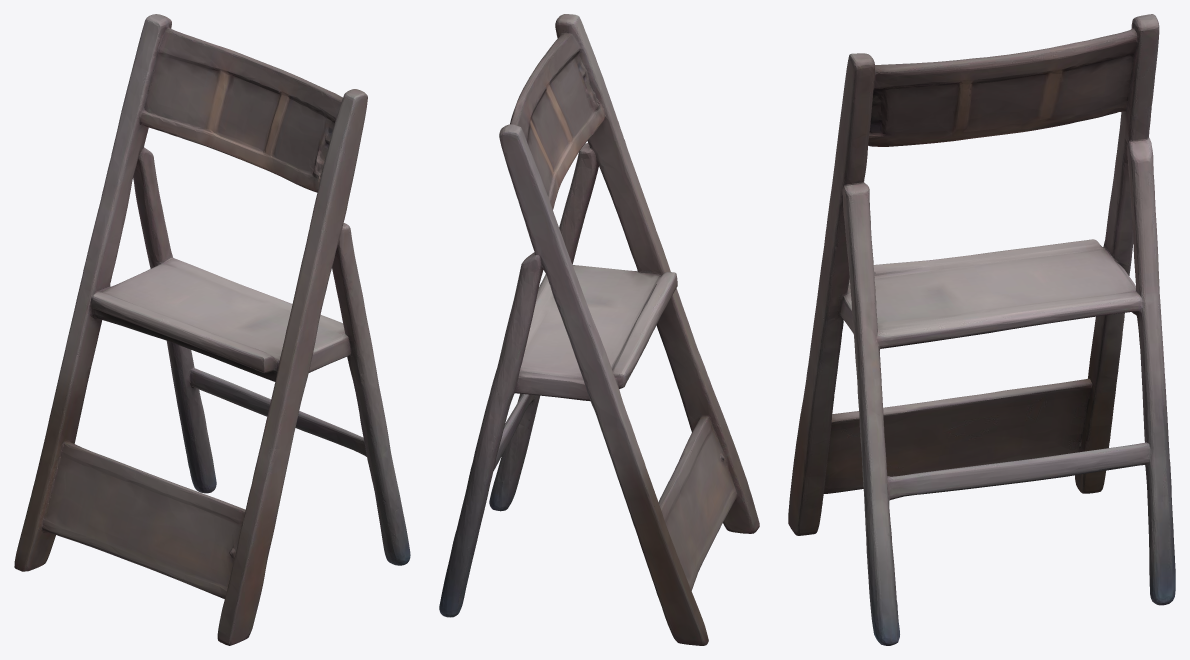
File: wooden_folding_chair_000.glb
3 renders of one model, left to right at view 1: azimuth 30°, elevation 25°; view 2: azimuth 150°, elevation 25°; view 3: azimuth 270°, elevation 25°, orthographic. The views are drawn at different scales.
Visible parts, largest first — view 1: phase2_final_wooden_folding_chair_000.obj; view 2: phase2_final_wooden_folding_chair_000.obj; view 3: phase2_final_wooden_folding_chair_000.obj.
Part boxes in pixels (<box>): phase2_final_wooden_folding_chair_000.obj: <box>14,14,410,645</box>; phase2_final_wooden_folding_chair_000.obj: <box>439,14,759,645</box>; phase2_final_wooden_folding_chair_000.obj: <box>788,14,1175,645</box>.
Bounding box in the file's own units: 0.2407 × 0.3732 × 0.2359.
1 material, 1 textured.
